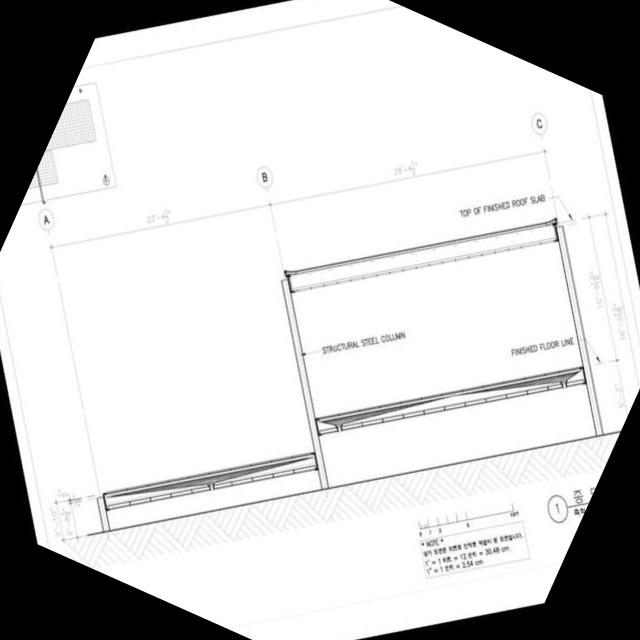background: (0, 0, 640, 640)
space_other: (290, 237, 583, 418)
